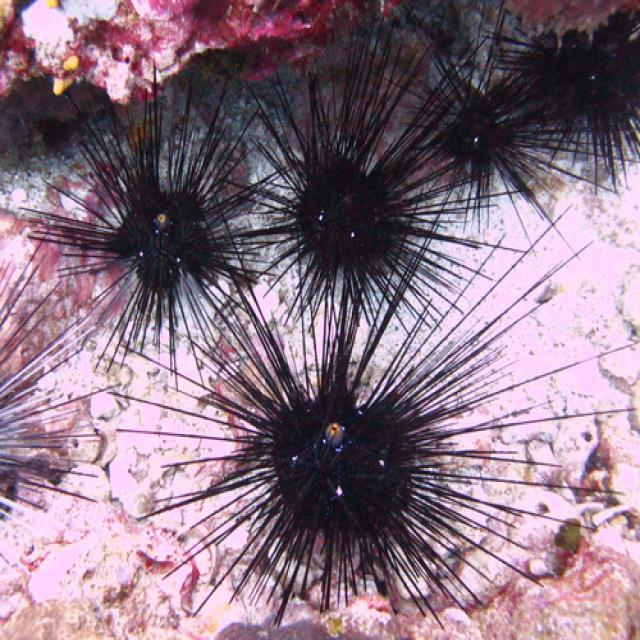Urchin: (118, 188, 640, 626), (234, 17, 525, 349), (19, 68, 287, 391), (384, 20, 575, 262), (490, 20, 638, 198)
